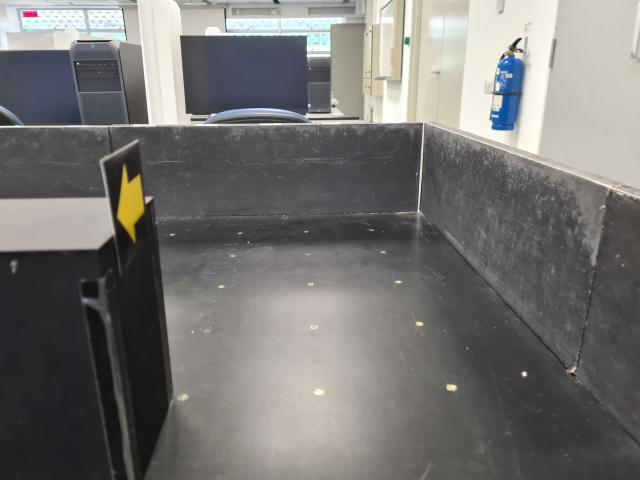right: (100, 139, 151, 272)
